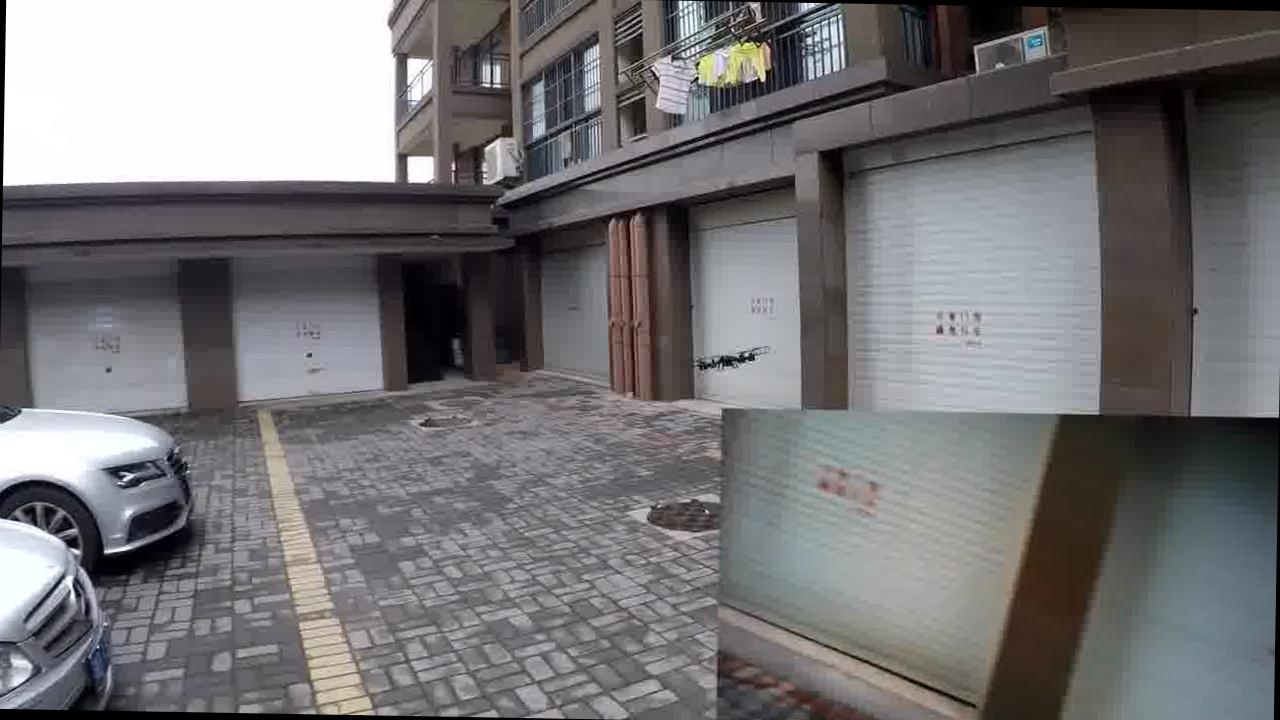drone: (688, 340, 774, 372)
